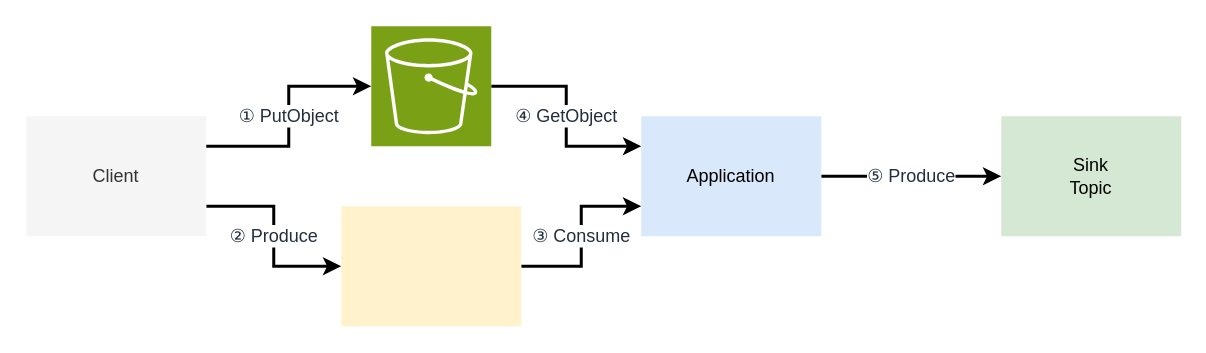
The diagram is 1206 pixels wide and 353 high, and some of its shapes have lost their labels. The shapes that lost their labels are listed below. From the top down, each one's centre as x and y in pixels, then its label:
At point 430,85: "S3".
At point 430,266: "S3 Source Topic".
